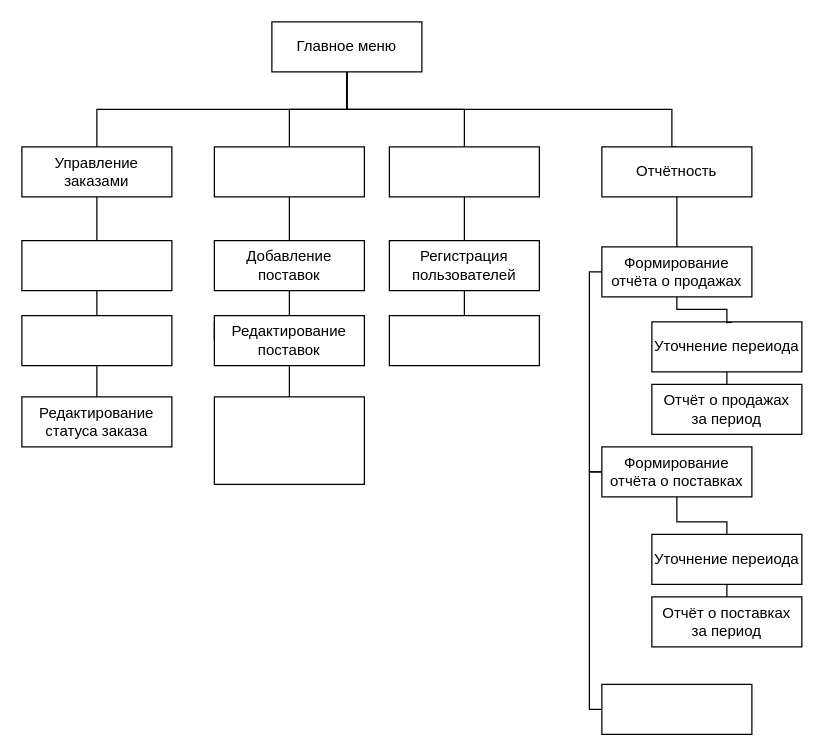
Some shapes in this 824 by 756 pixel diagram are drawn without their labels. Here are the shapes that lost their labels. From the top down, the box of each, then its label:
(213, 146, 364, 197): Управление поставками
(388, 146, 539, 197): Управление учётными записями
(21, 239, 172, 291): Добавление заказов
(21, 314, 172, 366): Редактирование заказов
(388, 314, 539, 366): Авторизация пользователей
(213, 396, 364, 484): Составления заявки на поставку
(601, 683, 752, 734): Поиск заказа или поставки
